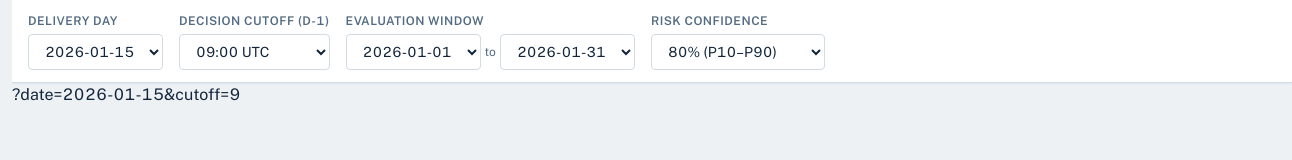
Test case: ControlStrip › allows changing decision cutoff hour
Select "11:00 UTC" in the dropdown labelled "Decision Cutoff (D-1)" at (254, 52), box [179,34,330,70]
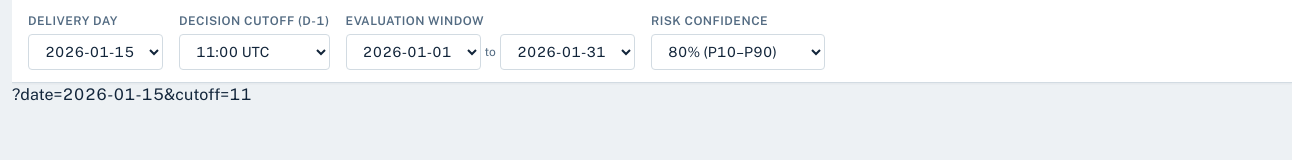
expect the text with test id "location-search" shows "cutoff=11": met, box [12,85,252,104]
